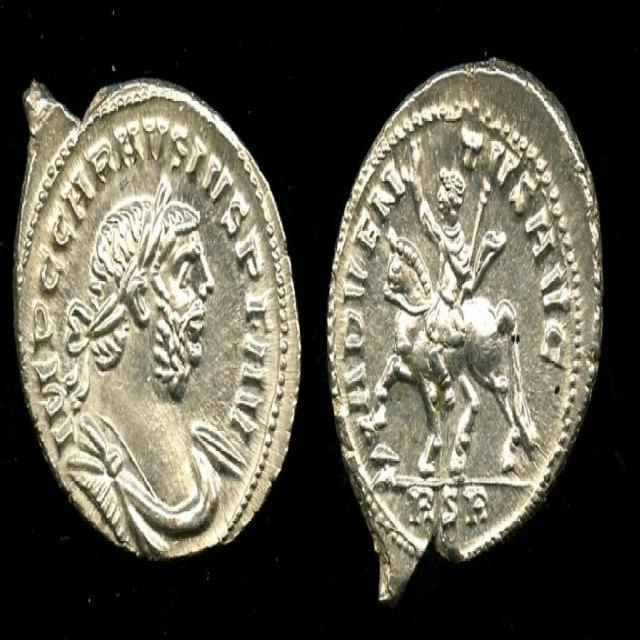Coin: (325, 51, 606, 605), (3, 73, 307, 551)
